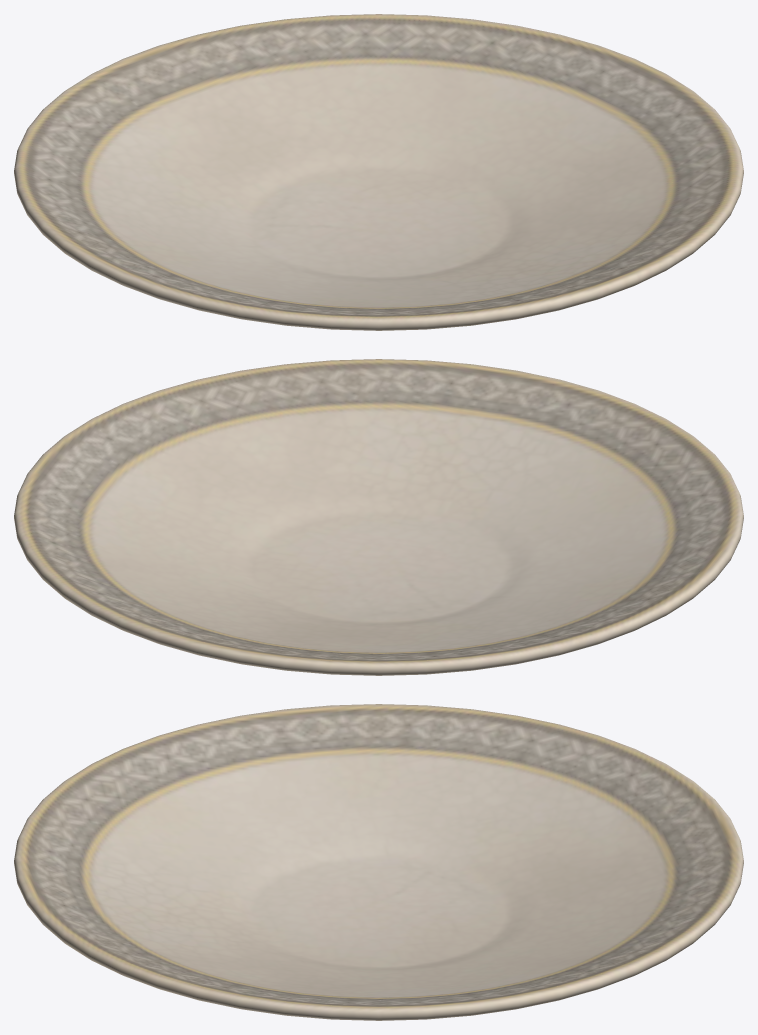
File: saucer.glb
The picture shows the model from 3 angles, top to bottom: view 1: azimuth 30°, elevation 25°; view 2: azimuth 150°, elevation 25°; view 3: azimuth 270°, elevation 25°; orthographic projection.
Visible parts, largest first — view 1: tea_set_01_saucer_circular_03; view 2: tea_set_01_saucer_circular_03; view 3: tea_set_01_saucer_circular_03.
Boxes of the visible parts, x1,y1,x2,y2 form: tea_set_01_saucer_circular_03: (14,14,743,330); tea_set_01_saucer_circular_03: (14,359,743,675); tea_set_01_saucer_circular_03: (14,704,743,1020).
Size of the model in its own units: 0.149 by 0.0159 by 0.149.
1 material, 1 textured.
